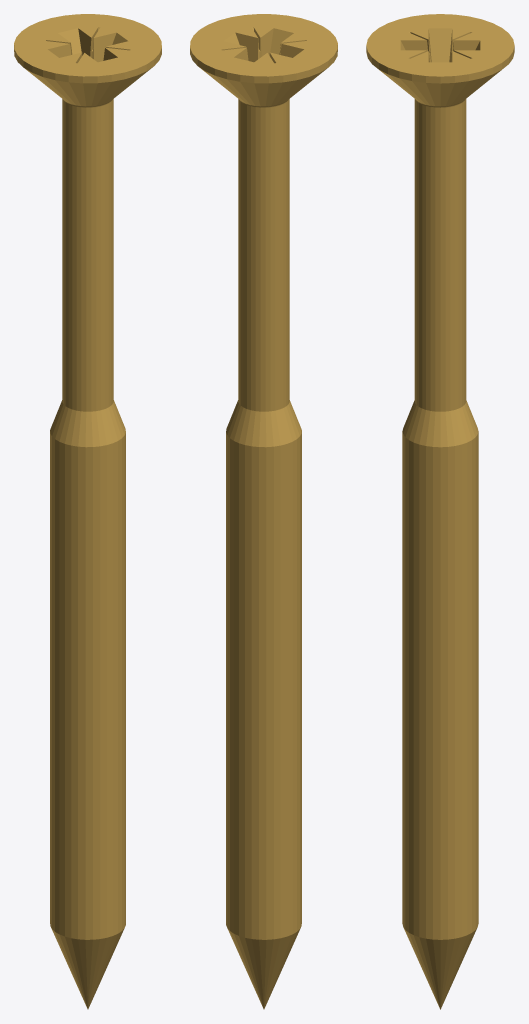
File: model_display.glb
3 renders of one model, left to right at view 1: azimuth 30°, elevation 25°; view 2: azimuth 150°, elevation 25°; view 3: azimuth 270°, elevation 25°, orthographic.
Visible parts, largest first — view 1: geometry_0; view 2: geometry_0; view 3: geometry_0.
Part boxes in pixels (x1,y1,x2,y2): geometry_0: (14, 14, 161, 1009); geometry_0: (190, 14, 337, 1009); geometry_0: (366, 14, 514, 1009).
Size of the model in its own units: 0.00975 by 0.07 by 0.00975.
